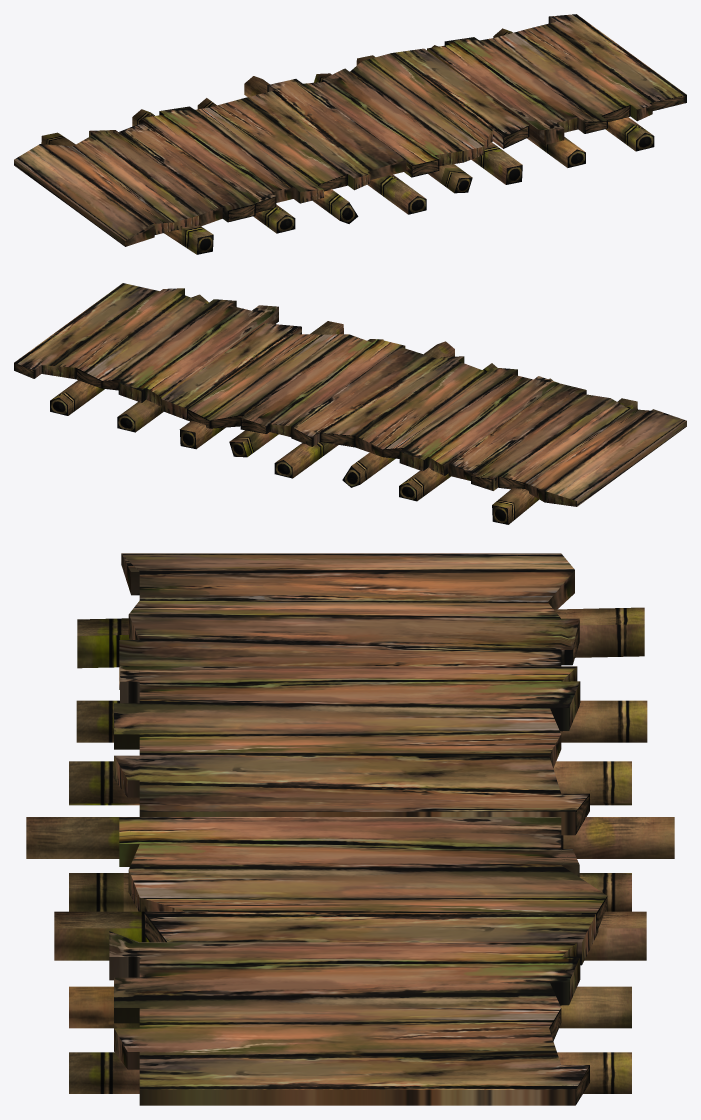
The model's file is STR_BridgeWoodC.FBX.
3 renders of one model, top to bottom at view 1: azimuth 30°, elevation 25°; view 2: azimuth 150°, elevation 25°; view 3: azimuth 270°, elevation 25°, orthographic. The views are drawn at different scales.
Parts seen in each view (by area): view 1: STR_BridgewoodC; view 2: STR_BridgewoodC; view 3: STR_BridgewoodC.
Part boxes in pixels (x1,y1,x2,y2): STR_BridgewoodC: (14, 14, 686, 254); STR_BridgewoodC: (14, 283, 686, 524); STR_BridgewoodC: (26, 553, 674, 1105).
Size of the model in its own units: 1997 by 123 by 1002.
